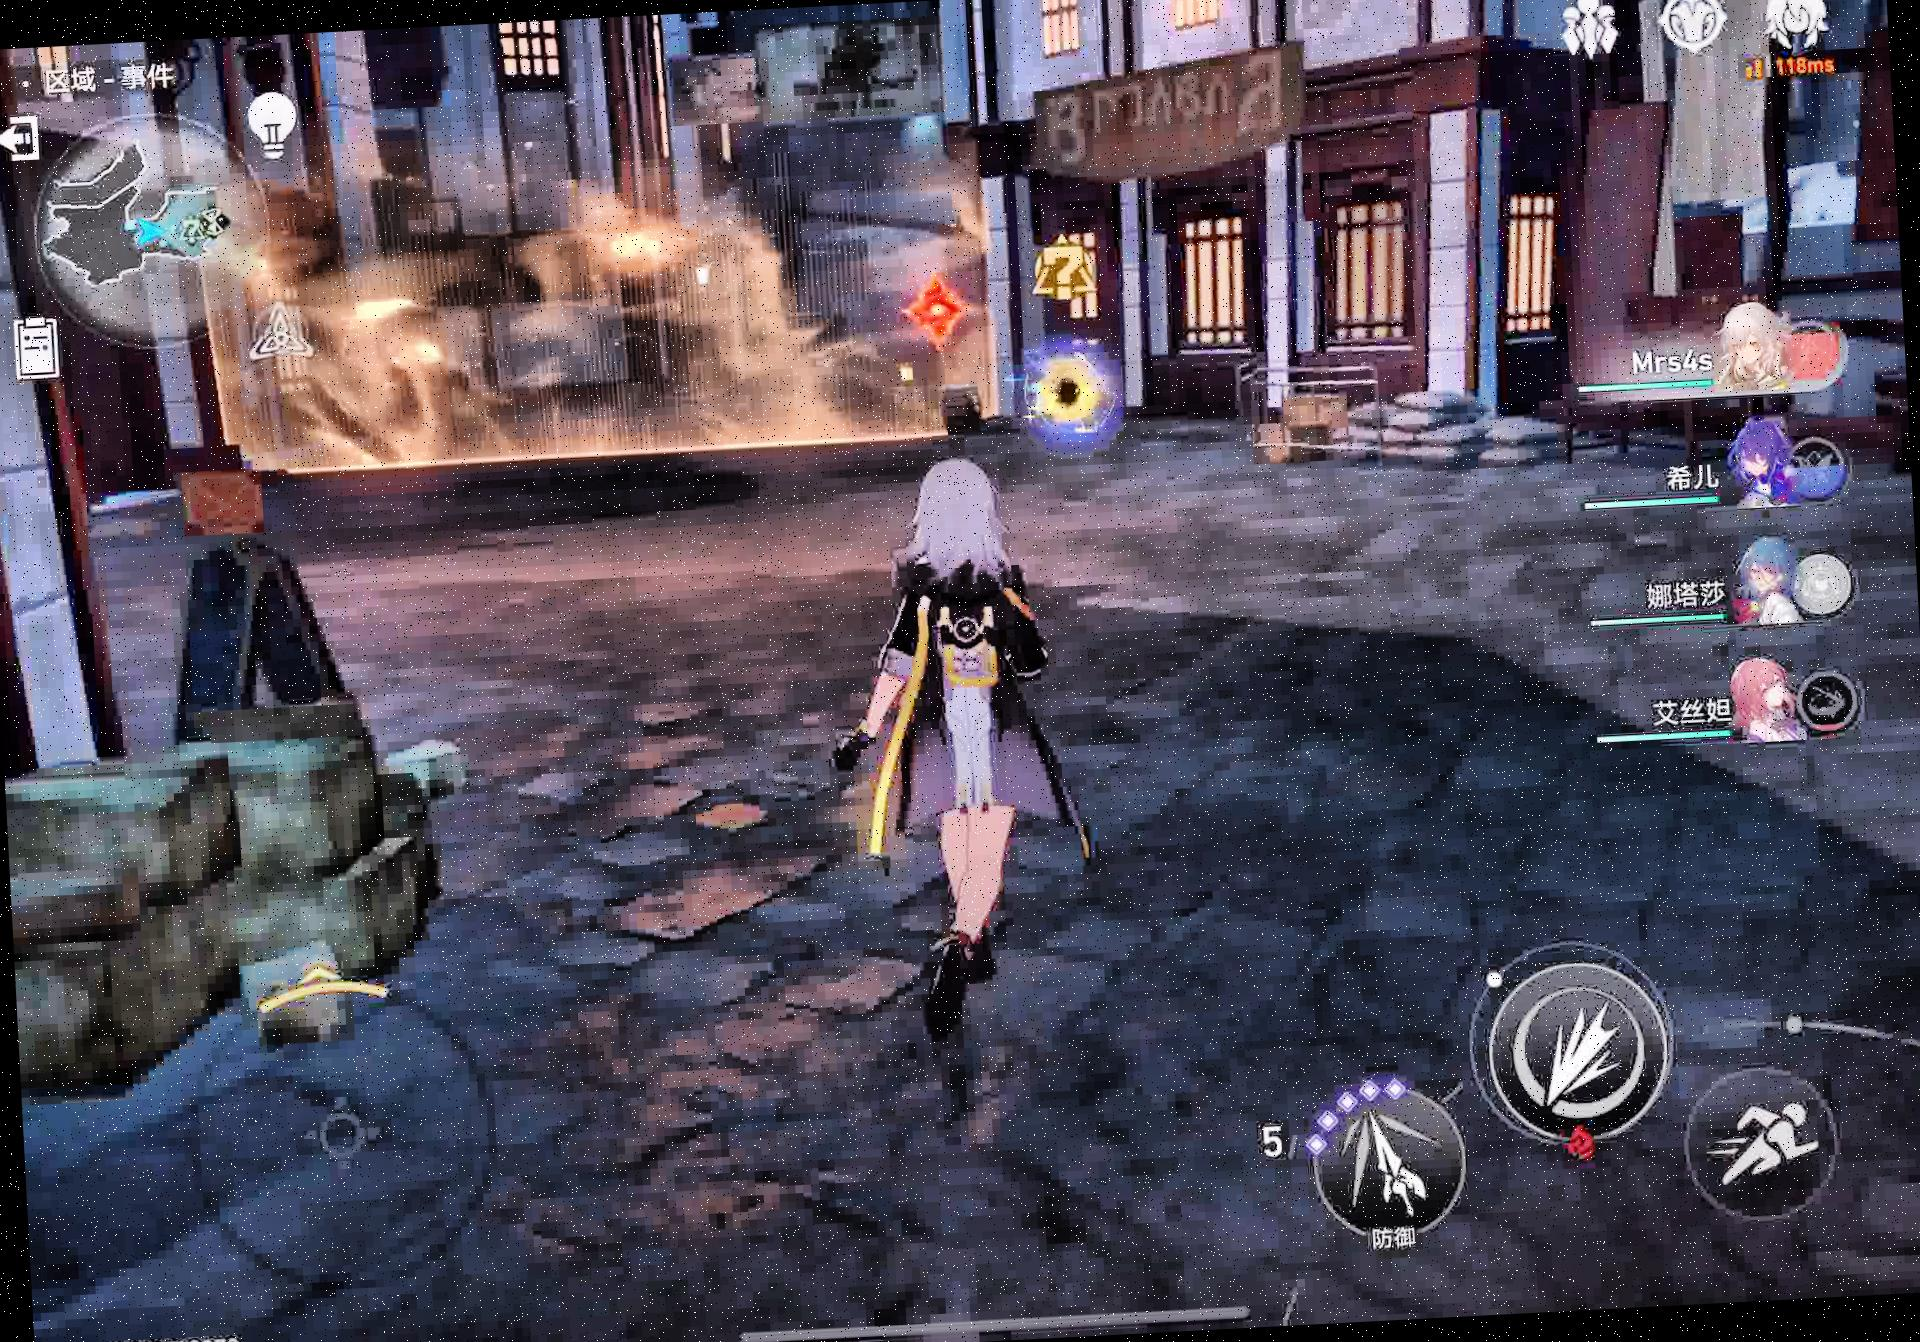BattleDoor: (902, 270, 980, 359)
EventStar: (1026, 346, 1122, 452)
Self: (826, 459, 1103, 1030)
